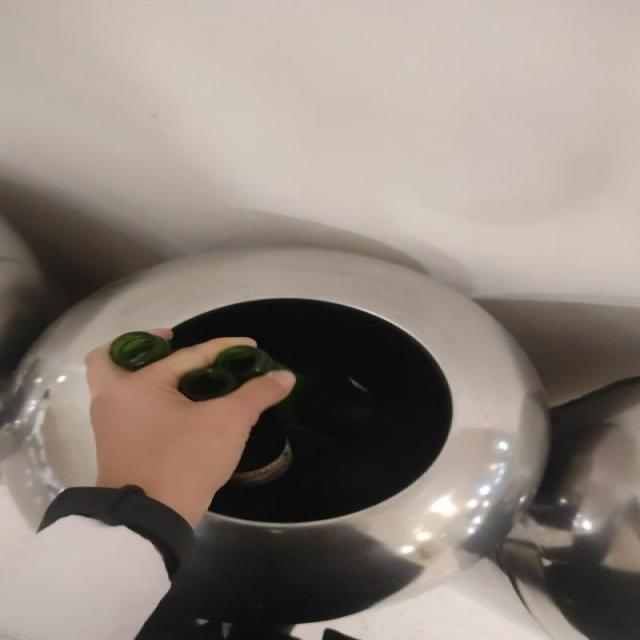glass: (229, 373, 375, 488), (179, 347, 287, 401), (109, 332, 172, 371)
